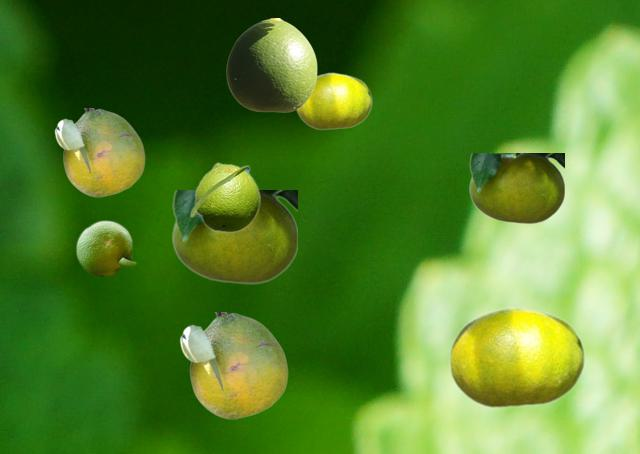dalandan: (448, 306, 584, 408), (172, 190, 296, 283), (179, 312, 287, 418), (226, 18, 316, 111), (54, 108, 144, 196), (469, 153, 563, 223), (189, 162, 260, 232), (296, 72, 371, 129), (75, 219, 136, 276)
